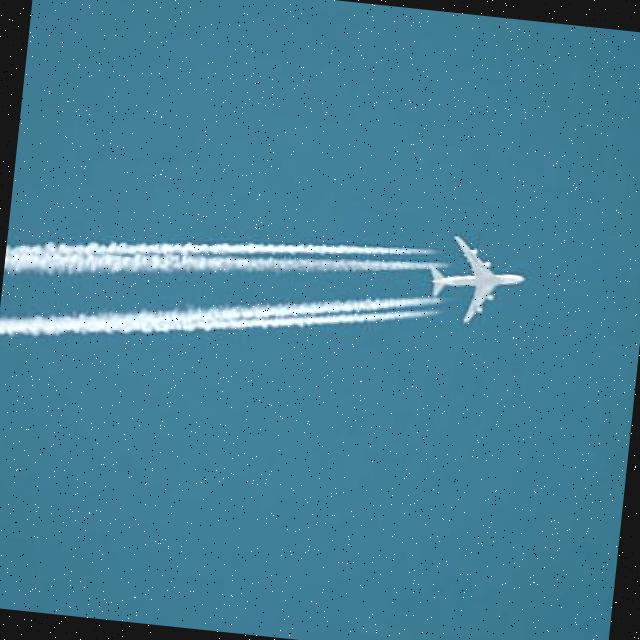Ct: (1, 157, 465, 468)
